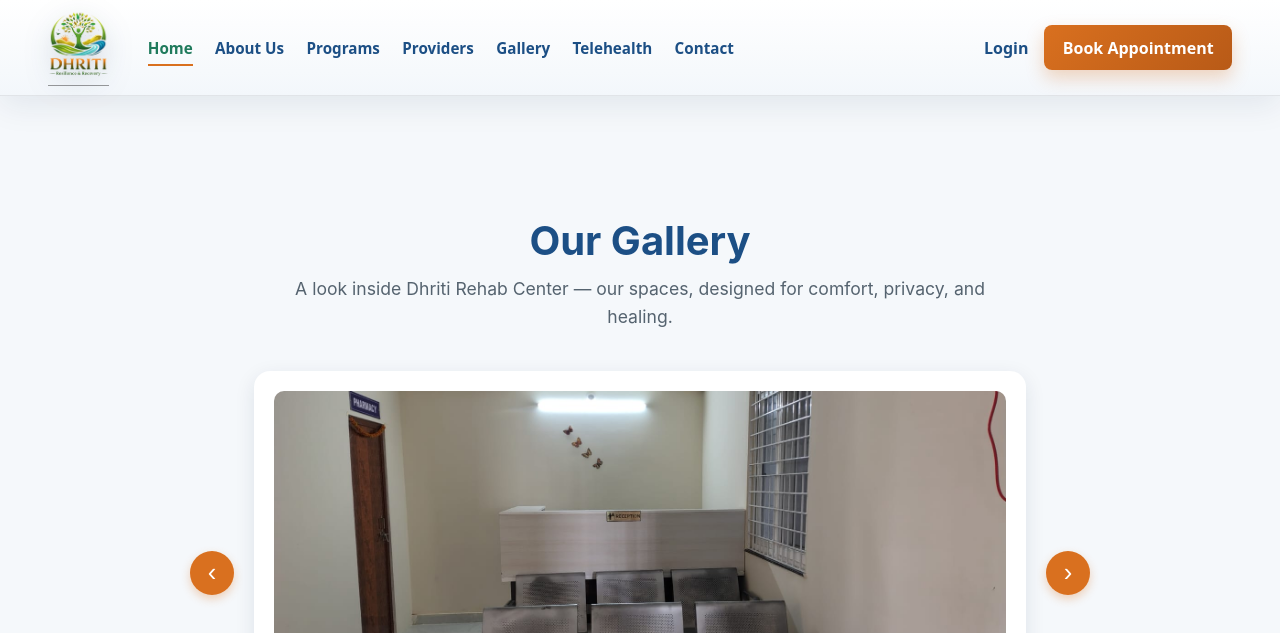
Test: Gallery › advances to the next photo and its caption
Click the button named "next image" at (1068, 573), box 1046,551 -> 1090,595
(page scrolled)
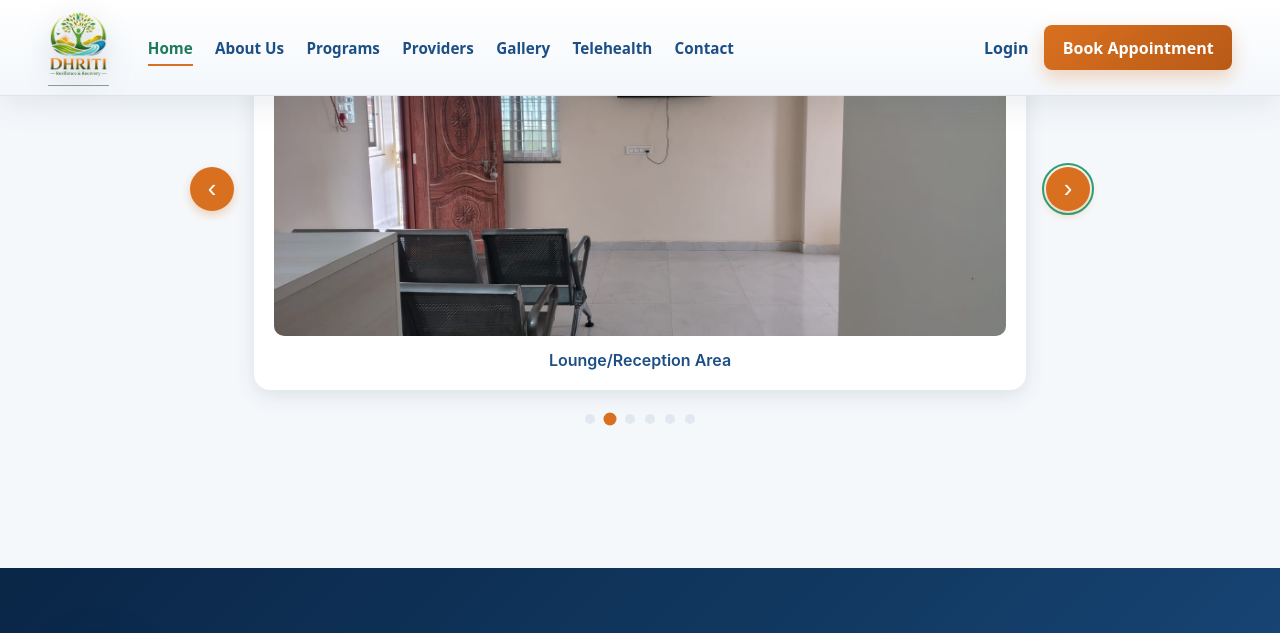
Now the text "Lounge/Reception Area" is shown, box 549,350 -> 731,370
